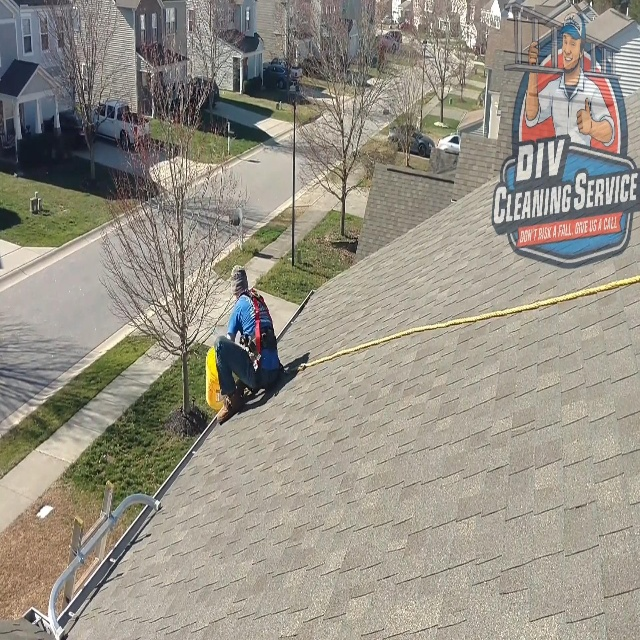Arnes_seguridad: (239, 284, 283, 393)
